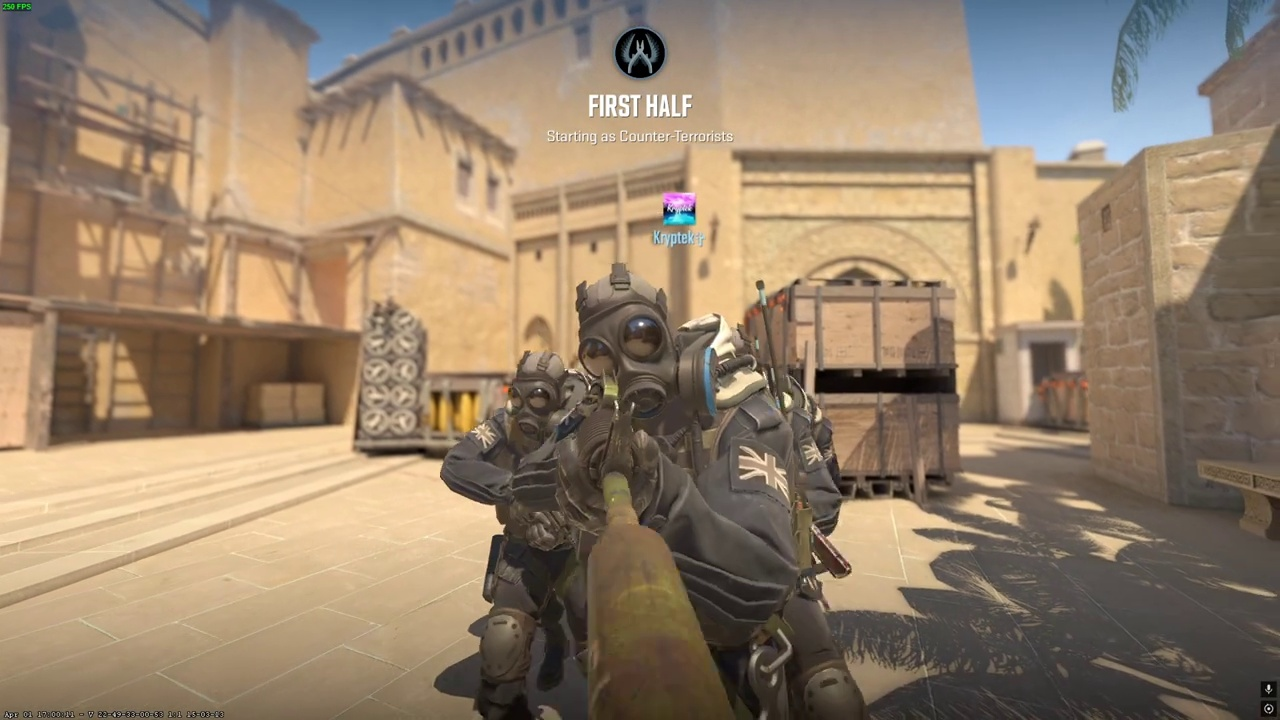CT: (577, 272, 859, 720), (446, 348, 601, 720)
